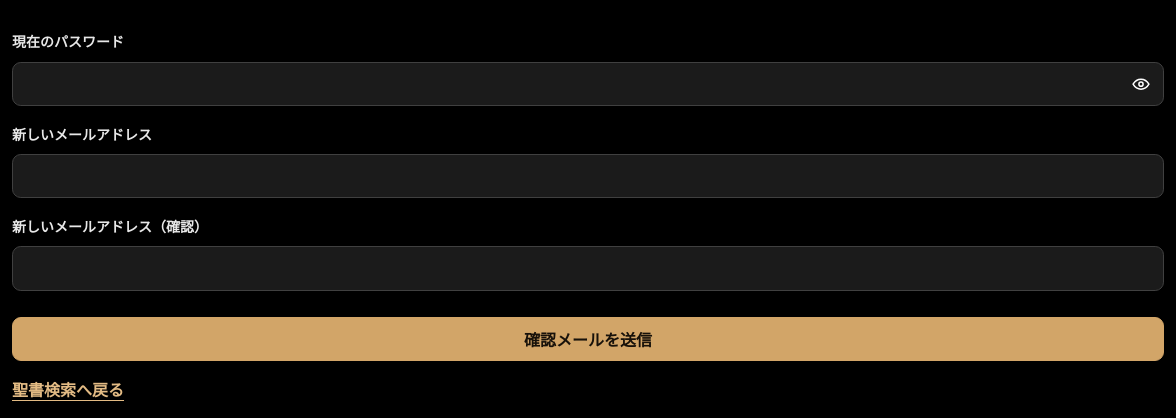
it: church password recovery forms › requests email verification with normalized matching addresses
The image size is (1176, 418).
Type "current-password" into the password field labelled "現在のパスワード" at (588, 84), box left=12, top=62, right=1164, bottom=106
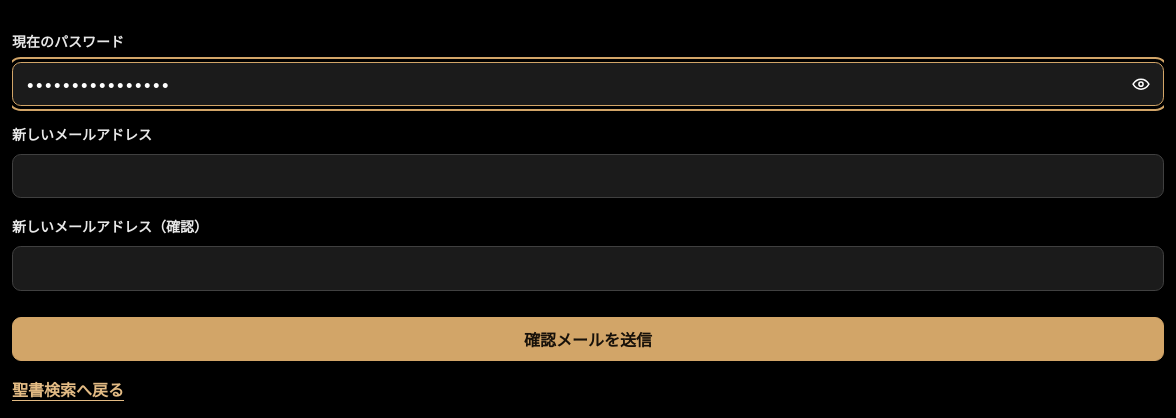
Type "NEW@Example.com " into the field labelled "新しいメールアドレス" at (588, 176), box left=12, top=154, right=1164, bottom=198
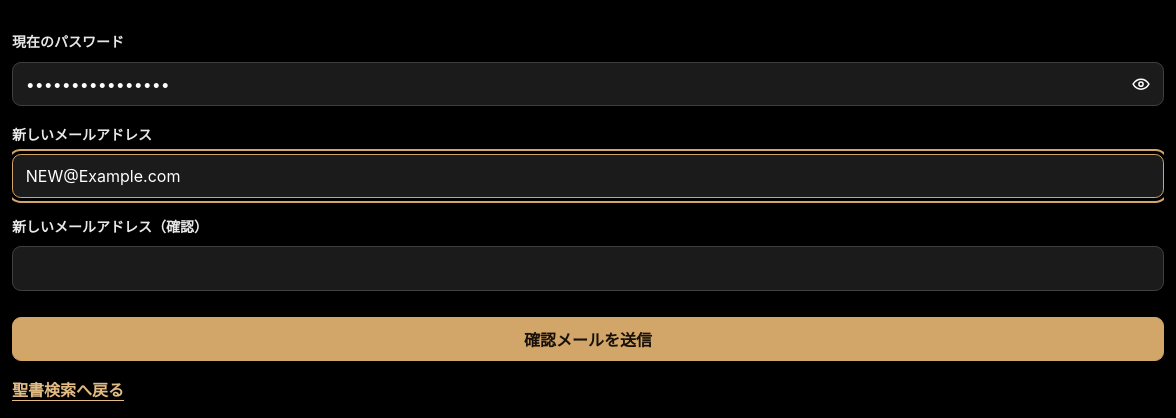
Type "new@example.com" into the field labelled "新しいメールアドレス（確認）" at (588, 268), box left=12, top=246, right=1164, bottom=291
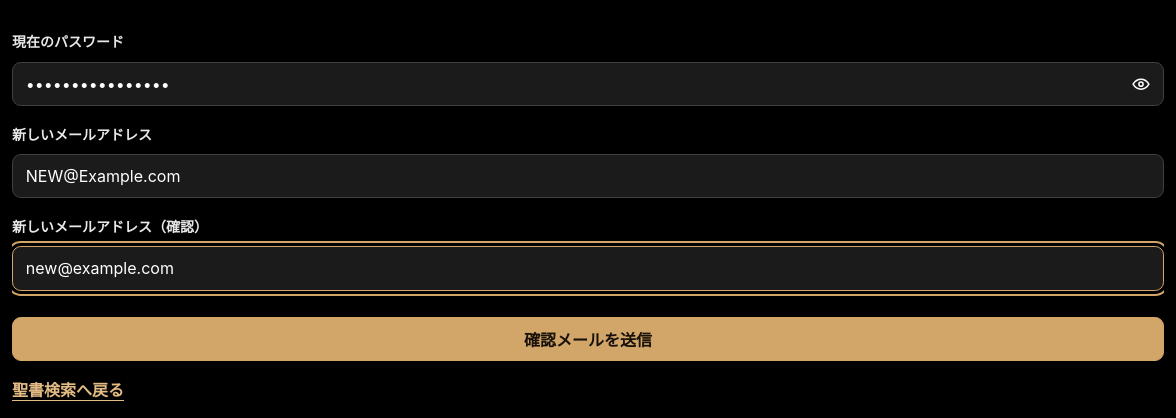
Click the button "確認メールを送信" at (588, 339), box left=12, top=317, right=1164, bottom=361
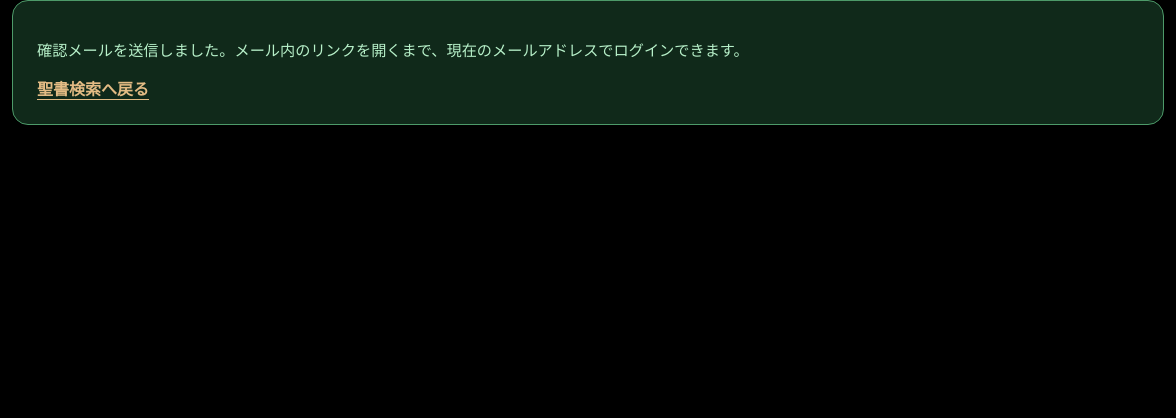
Result: the message shows "メール内のリンクを開くまで、現在のメールアドレスでログインできます。" at left=37, top=41, right=749, bottom=60
